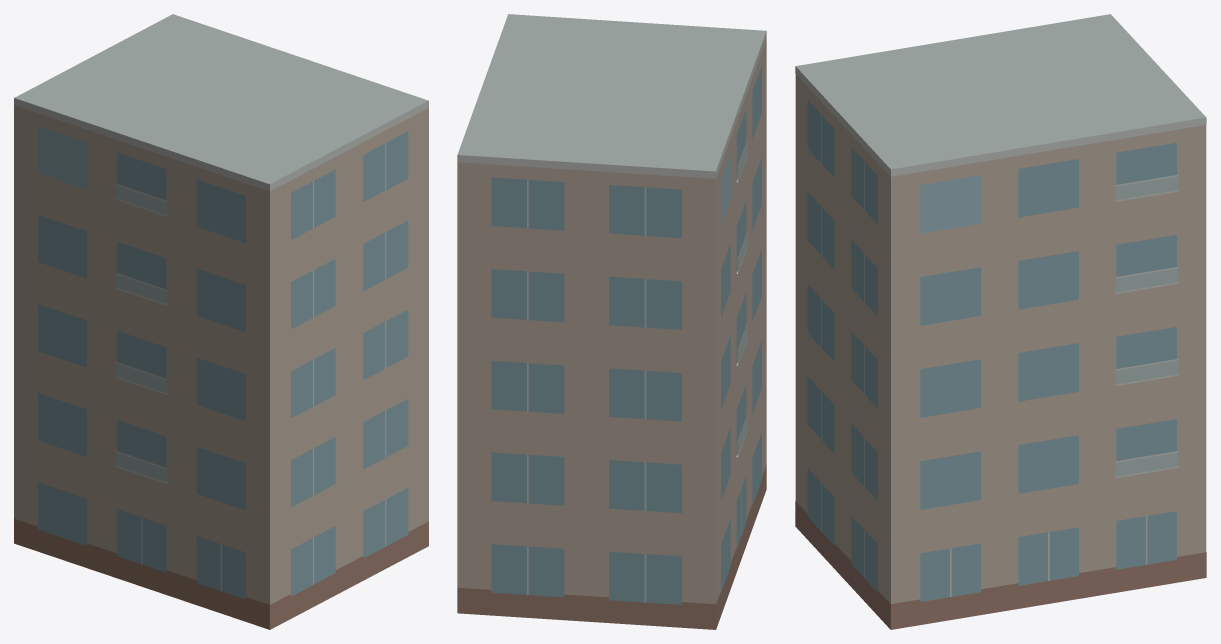
Rendered from residential-caac5c7d-dc51-4b43-a735-adfc02c681c5.glb.
The picture shows the model from 3 angles, left to right: view 1: azimuth 30°, elevation 25°; view 2: azimuth 150°, elevation 25°; view 3: azimuth 270°, elevation 25°; orthographic projection. The views are drawn at different scales.
Parts seen in each view (by area): view 1: residential-caac5c7d-dc51-4b43-a735-adfc02c681c5.tmp; view 2: residential-caac5c7d-dc51-4b43-a735-adfc02c681c5.tmp; view 3: residential-caac5c7d-dc51-4b43-a735-adfc02c681c5.tmp.
Boxes of the visible parts, left/top/right/bottom form: residential-caac5c7d-dc51-4b43-a735-adfc02c681c5.tmp: left=14, top=14, right=428, bottom=629; residential-caac5c7d-dc51-4b43-a735-adfc02c681c5.tmp: left=457, top=14, right=766, bottom=629; residential-caac5c7d-dc51-4b43-a735-adfc02c681c5.tmp: left=795, top=14, right=1206, bottom=629.
Size of the model in its own units: 11.05 by 15.25 by 12.35.
